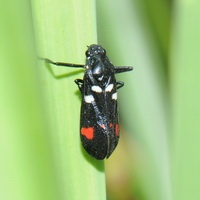insect: (41, 44, 132, 159)
